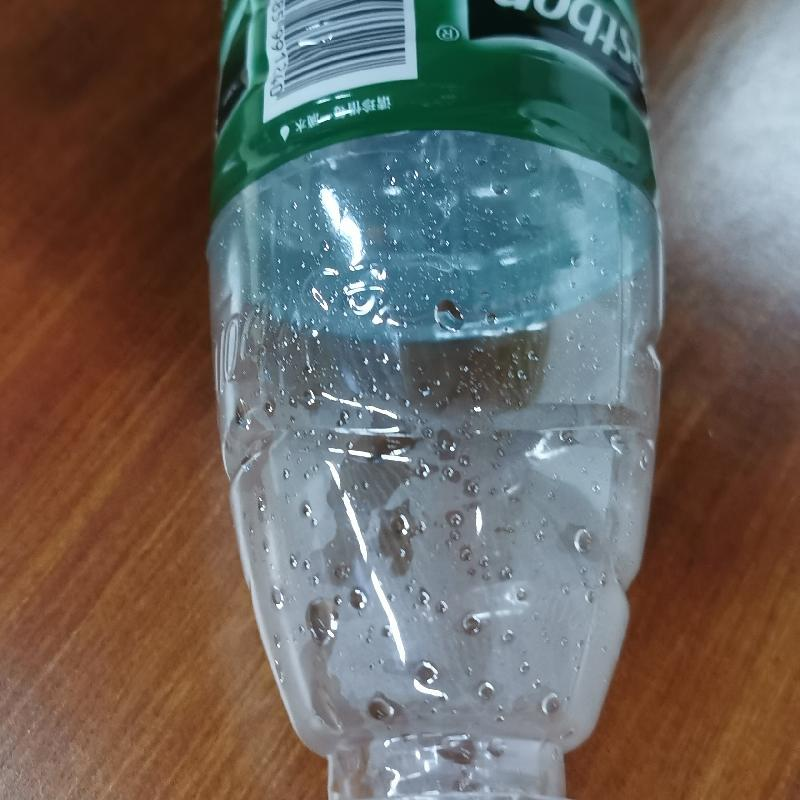bottles: (202, 0, 665, 799)
